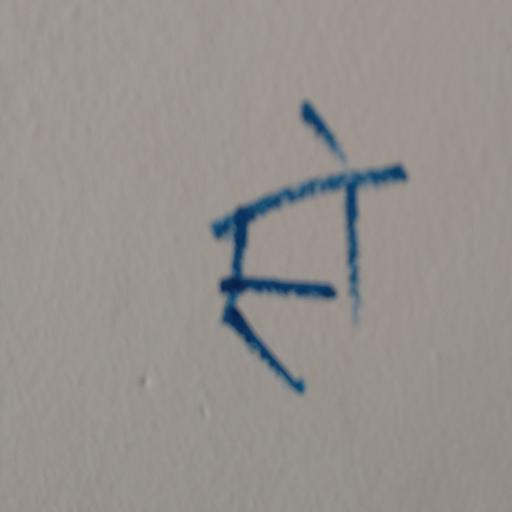stain: (189, 64, 429, 412)
